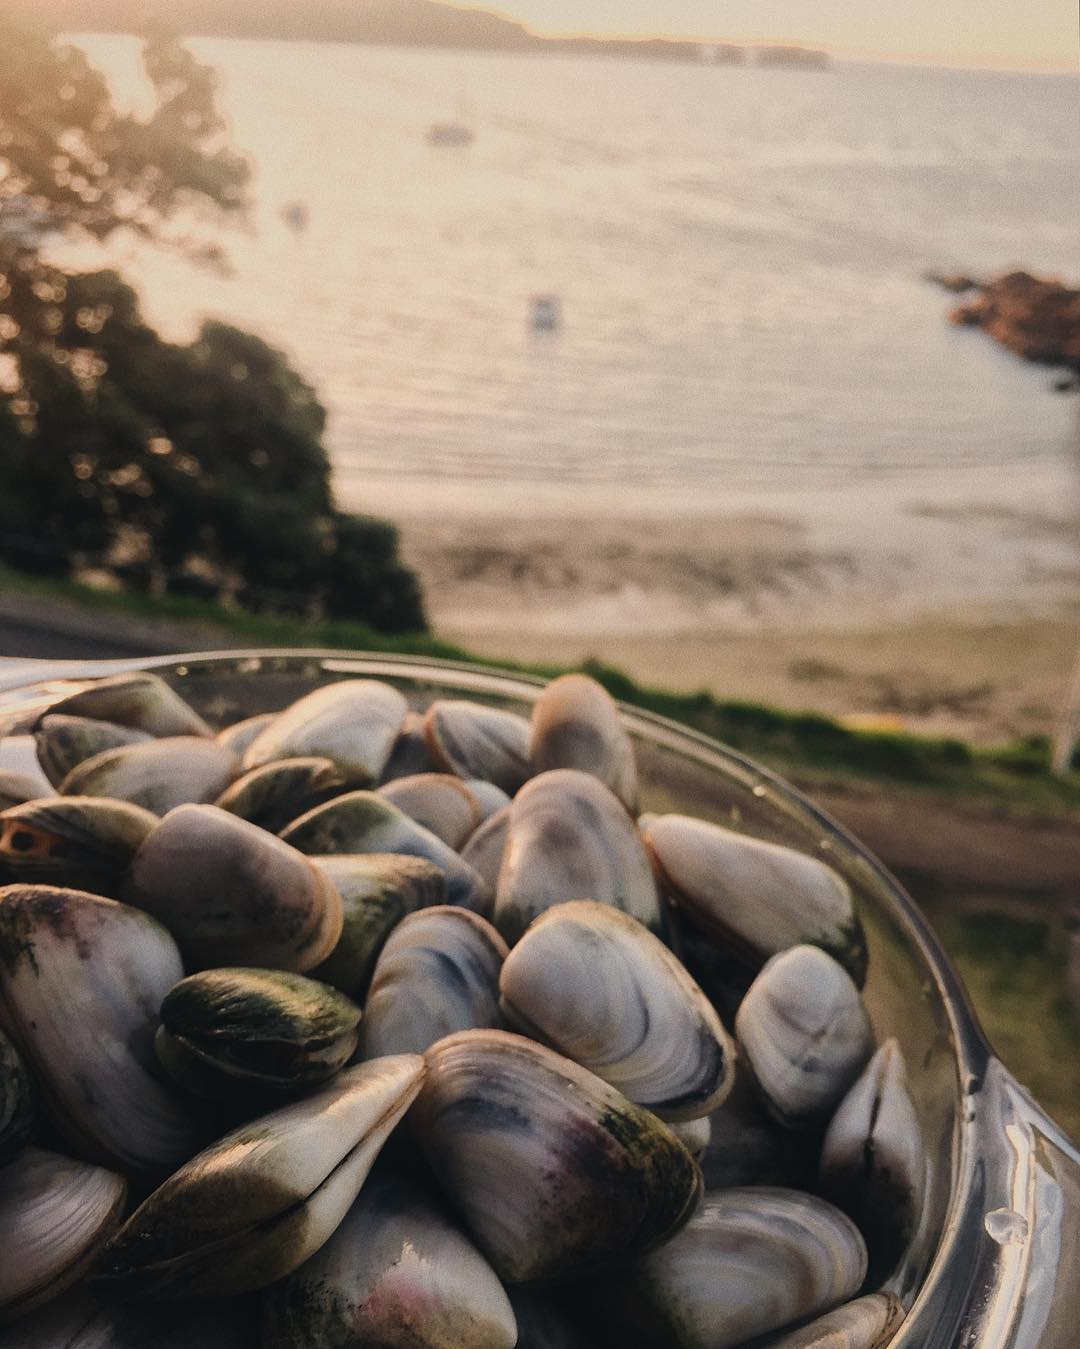tuatua: (418, 1026, 701, 1301), (102, 1050, 426, 1280), (501, 898, 741, 1129), (6, 882, 183, 1180), (644, 810, 881, 984), (123, 798, 350, 975), (644, 1178, 872, 1328), (299, 1200, 525, 1349), (151, 964, 367, 1115), (818, 1035, 932, 1289), (730, 942, 879, 1131), (492, 764, 665, 921), (361, 903, 514, 1064), (9, 1145, 125, 1323), (237, 673, 411, 789), (50, 736, 242, 807)
